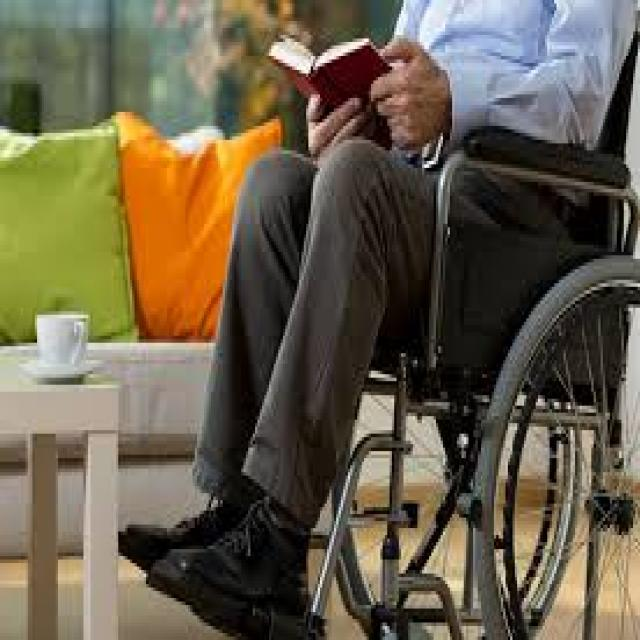wheelchairs: (255, 7, 638, 636)
